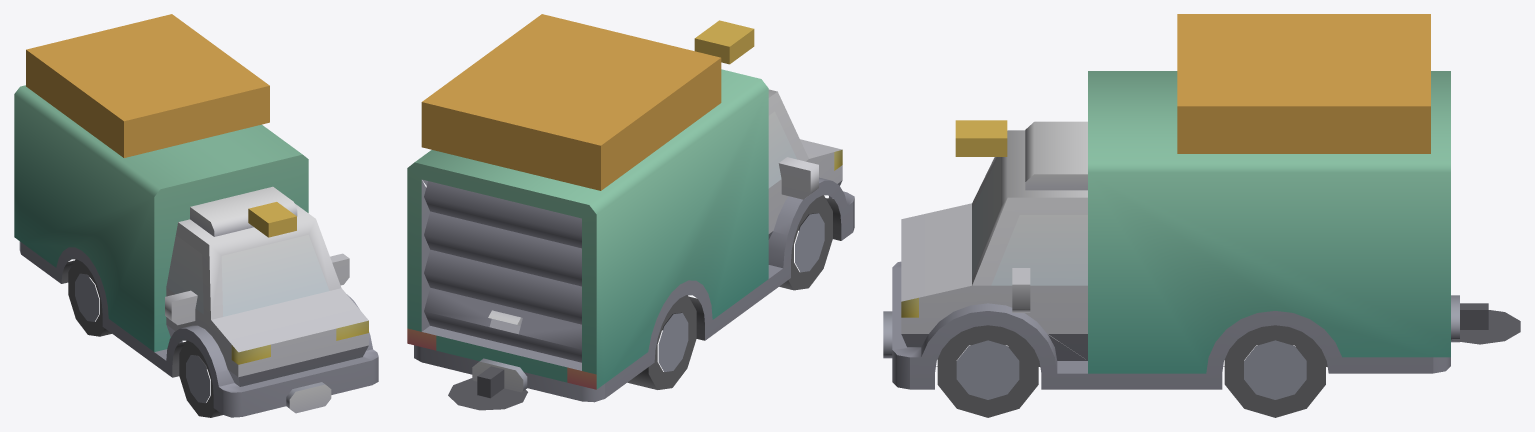
Rendered from salt.glb.
The picture shows the model from 3 angles, left to right: view 1: azimuth 30°, elevation 25°; view 2: azimuth 150°, elevation 25°; view 3: azimuth 270°, elevation 25°; orthographic projection. The views are drawn at different scales.
Visible parts, largest first — view 1: salt; view 2: salt; view 3: salt.
Boxes of the visible parts, bbox=[...] form: salt: bbox=[14, 14, 378, 417]; salt: bbox=[407, 14, 854, 410]; salt: bbox=[883, 14, 1520, 417].
Size of the model in its own units: 1.5 by 1.95 by 3.59.
